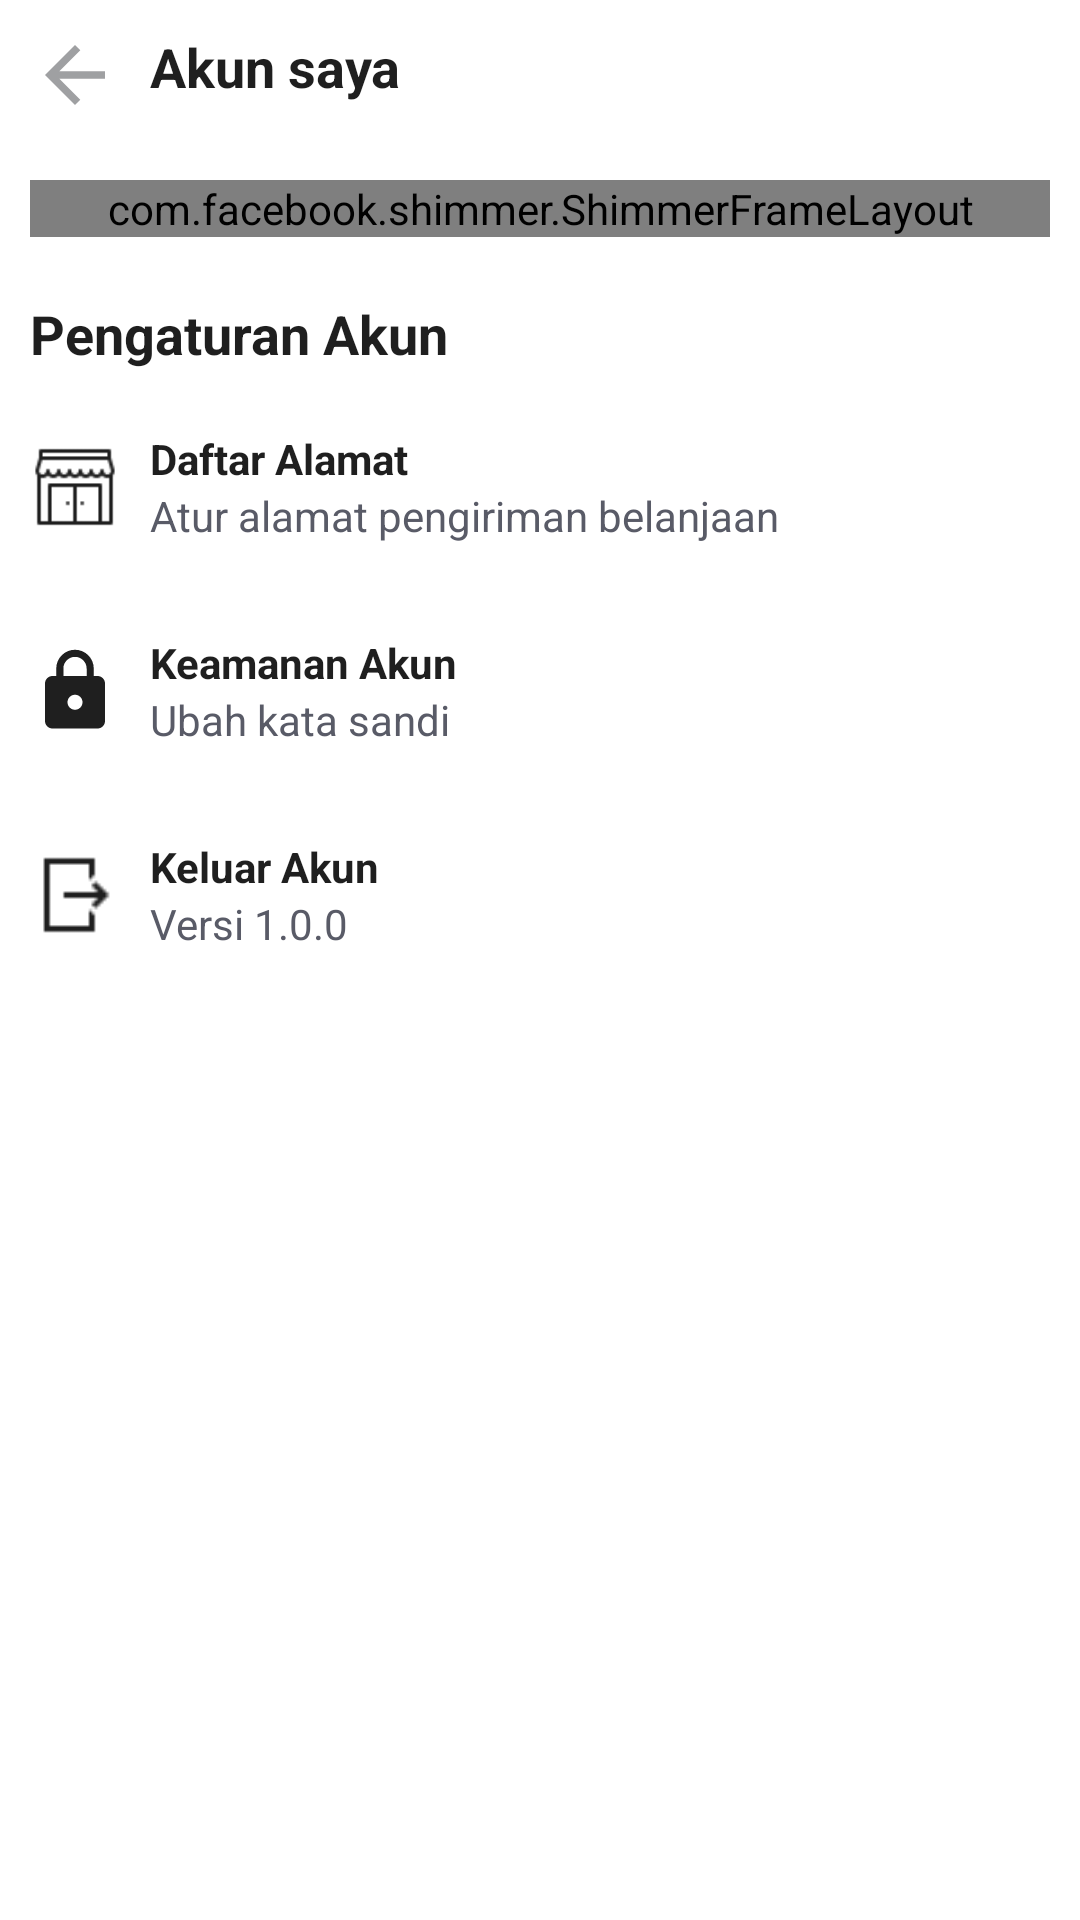

Named icons in this screenshot (1080×1920) and their centers, point (x, y):
back: point (75, 75)
lock: point (75, 689)
market: point (75, 487)
